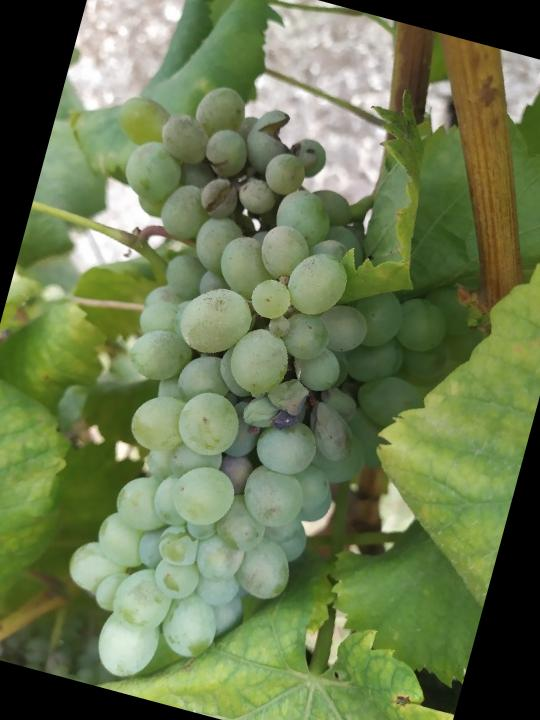grape: (0, 64, 496, 720)
